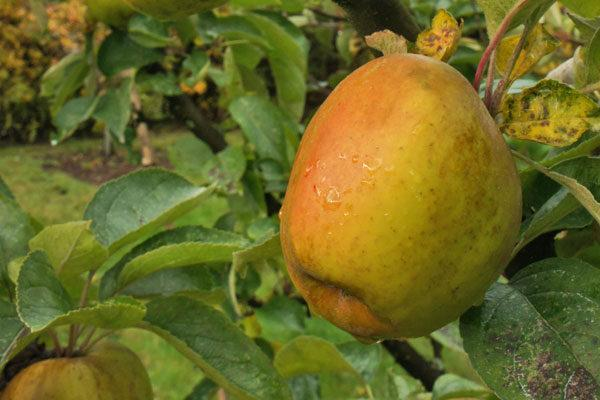apple: (272, 54, 520, 343)
